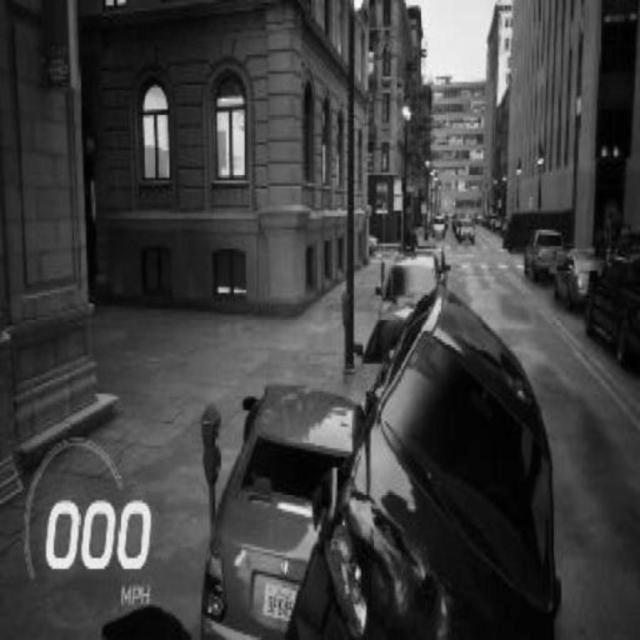accident: (206, 291, 554, 640)
vehicle: (581, 241, 640, 365), (375, 244, 448, 314), (523, 225, 571, 283), (455, 217, 479, 244)
